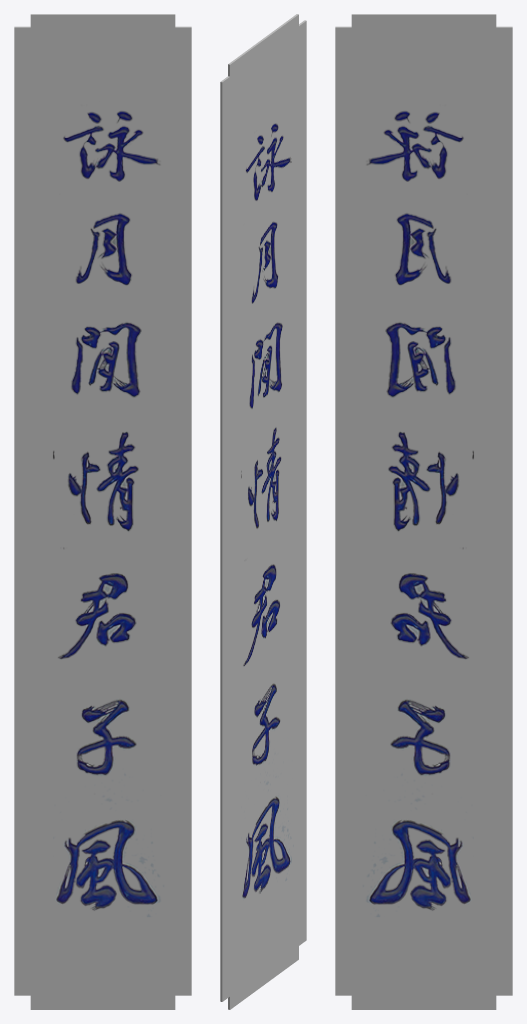
File: SM_Unhyun_Norak_S_Haenggak_Joo_C001.fbx
3 views of the same model, side by side, from view 1: azimuth 90°, elevation 25°; view 2: azimuth 150°, elevation 25°; view 3: azimuth 270°, elevation 25° (orthographic). The views are drawn at different scales.
Visible parts, largest first — view 1: SM_Unhyun_Norak_S_Haenggak_Joo_C001; view 2: SM_Unhyun_Norak_S_Haenggak_Joo_C001; view 3: SM_Unhyun_Norak_S_Haenggak_Joo_C001.
Boxes of the visible parts, box(x1,y1,x2,y2) form: SM_Unhyun_Norak_S_Haenggak_Joo_C001: box(14, 14, 191, 1009); SM_Unhyun_Norak_S_Haenggak_Joo_C001: box(220, 14, 306, 1009); SM_Unhyun_Norak_S_Haenggak_Joo_C001: box(335, 14, 512, 1009).
Bounding box in the file's own units: 0.2 × 90.01 × 14.56.
